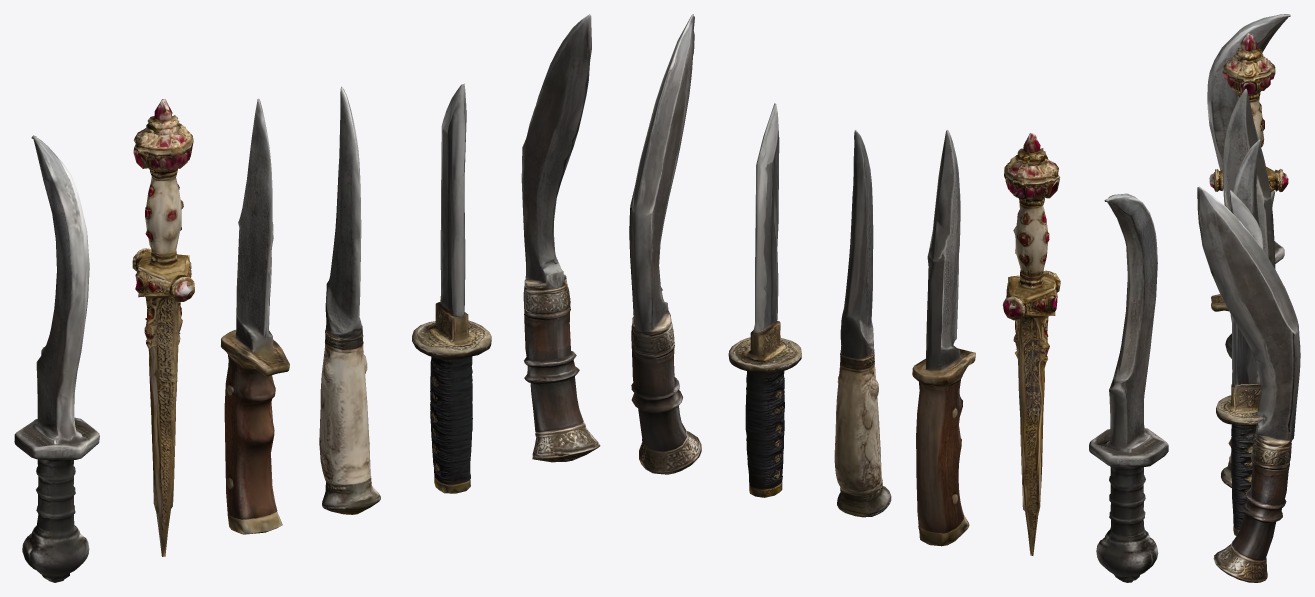
The model's file is weapons_daggers_2.glb.
3 renders of one model, left to right at view 1: azimuth 30°, elevation 25°; view 2: azimuth 150°, elevation 25°; view 3: azimuth 270°, elevation 25°, orthographic. The views are drawn at different scales.
Visible parts, largest first — view 1: knife_kukri, knife_sica, knife_hunting, knife_bone, dagger_jewelled, knife_tanto; view 2: knife_kukri, knife_sica, knife_hunting, dagger_jewelled, knife_bone, knife_tanto; view 3: knife_kukri, knife_tanto, knife_hunting, knife_sica, dagger_jewelled, knife_bone.
Part boxes in pixels (x1,y1,x2,y2): knife_kukri: (521, 14, 600, 462); knife_sica: (14, 135, 99, 582); knife_hunting: (221, 98, 289, 534); knife_bone: (319, 86, 380, 514); dagger_jewelled: (132, 99, 194, 556); knife_tanto: (412, 83, 491, 493); knife_kukri: (629, 14, 701, 474); knife_sica: (1089, 193, 1168, 582); knife_hunting: (912, 130, 975, 546); dagger_jewelled: (1002, 133, 1060, 555); knife_bone: (834, 130, 891, 517); knife_tanto: (728, 103, 801, 497); knife_kukri: (1197, 186, 1300, 582); knife_tanto: (1216, 190, 1263, 535); knife_hunting: (1211, 88, 1275, 446); knife_sica: (1207, 14, 1290, 358); dagger_jewelled: (1209, 33, 1288, 195); knife_bone: (1221, 139, 1260, 487).
Bounding box in the file's own units: 0.7615 × 0.601 × 0.1439.
1 material, 1 textured.
